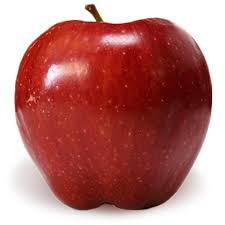apple: (12, 19, 212, 210)
